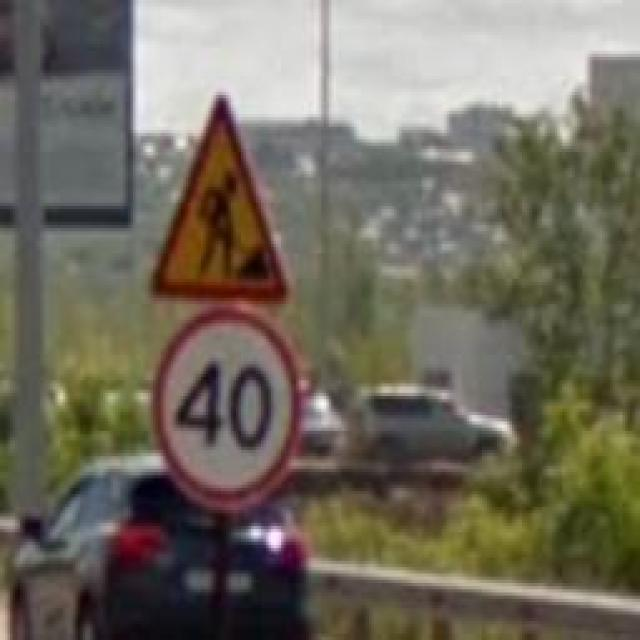Ograniczenie predkosci do 40: (150, 310, 304, 510)
